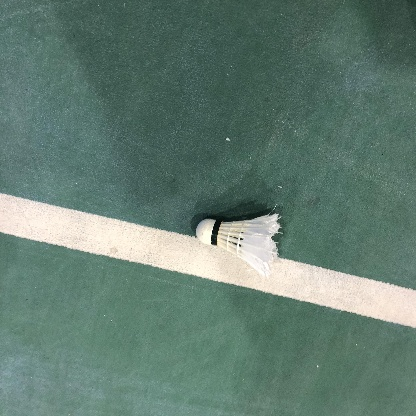ball_single: (196, 214, 280, 277)
